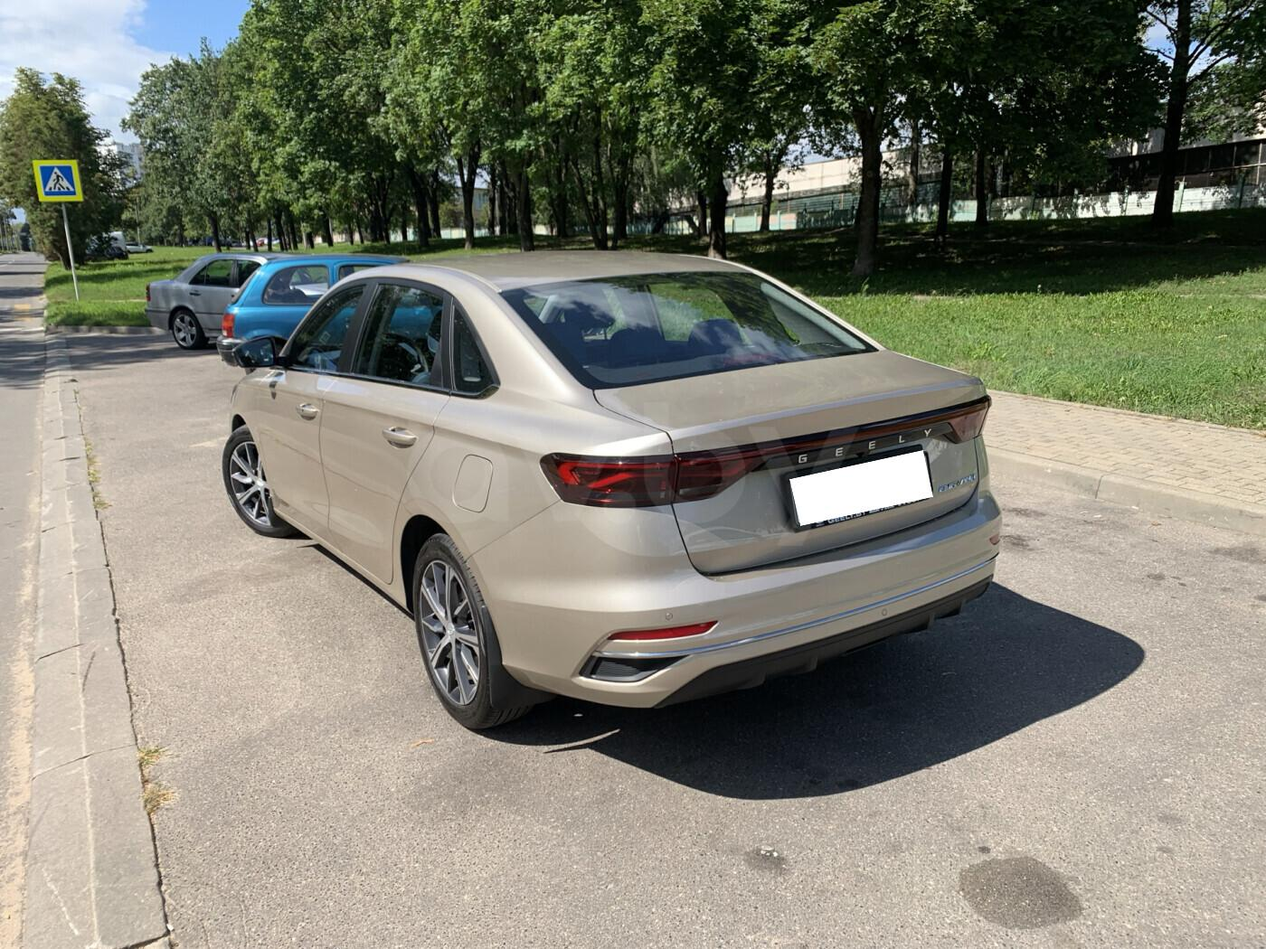Emgrand_2021: (218, 245, 1005, 753)
